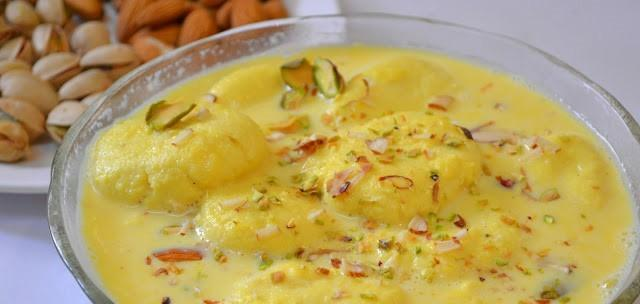RasMalai: (79, 45, 638, 304)
